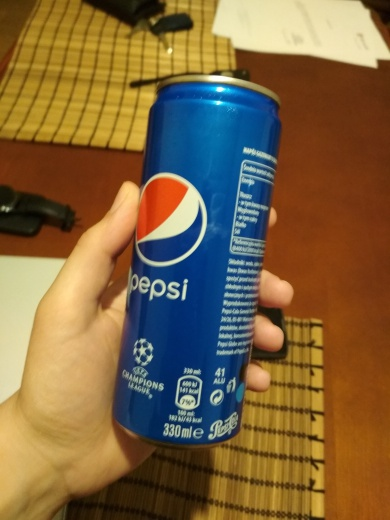pepsi: (99, 64, 281, 450)
